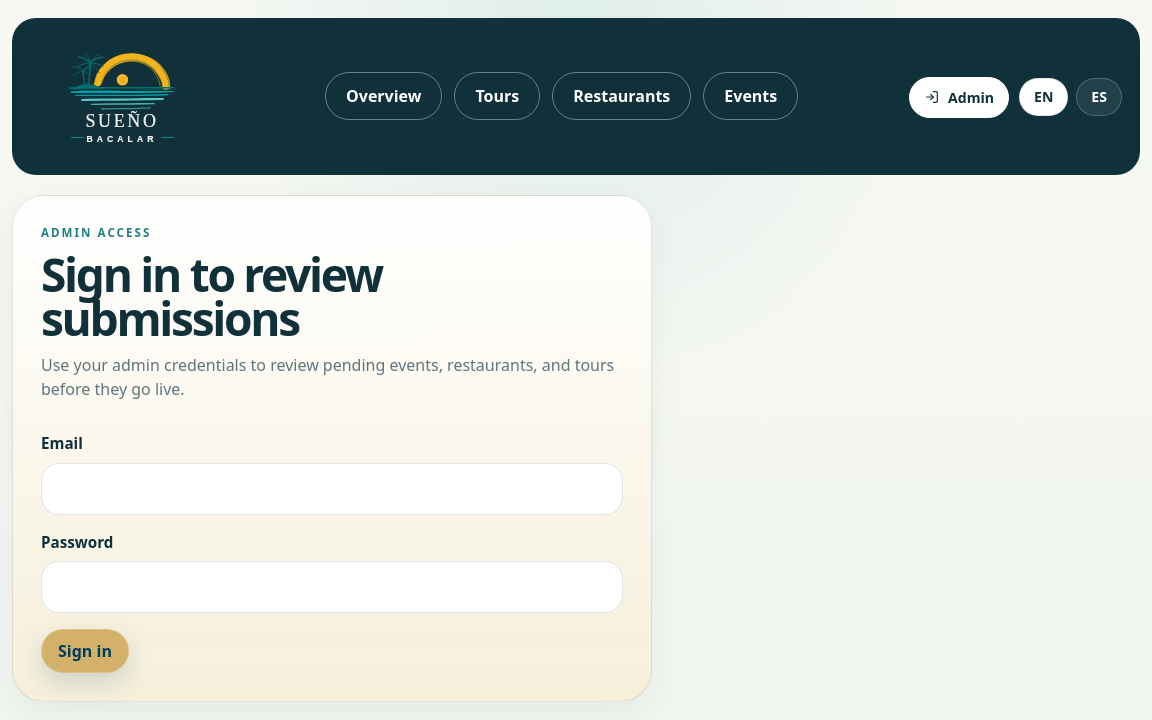
it: admin access flow › shows admin navigation after admin sign-in
The width and height of the screenshot is (1152, 720).
Type "admin@bacalar.test" into the field named "Email" at [332, 489], box [41, 463, 623, 515]
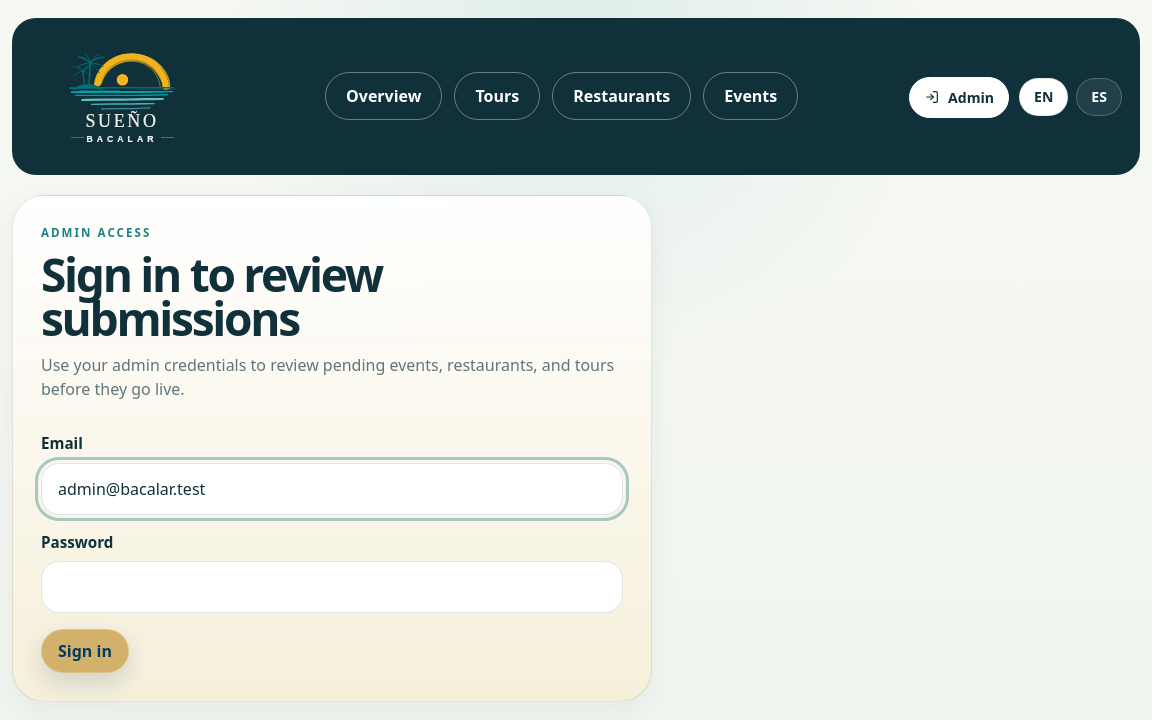
Type "super-secret" into the password field named "Password" at [332, 588], box [41, 562, 623, 614]
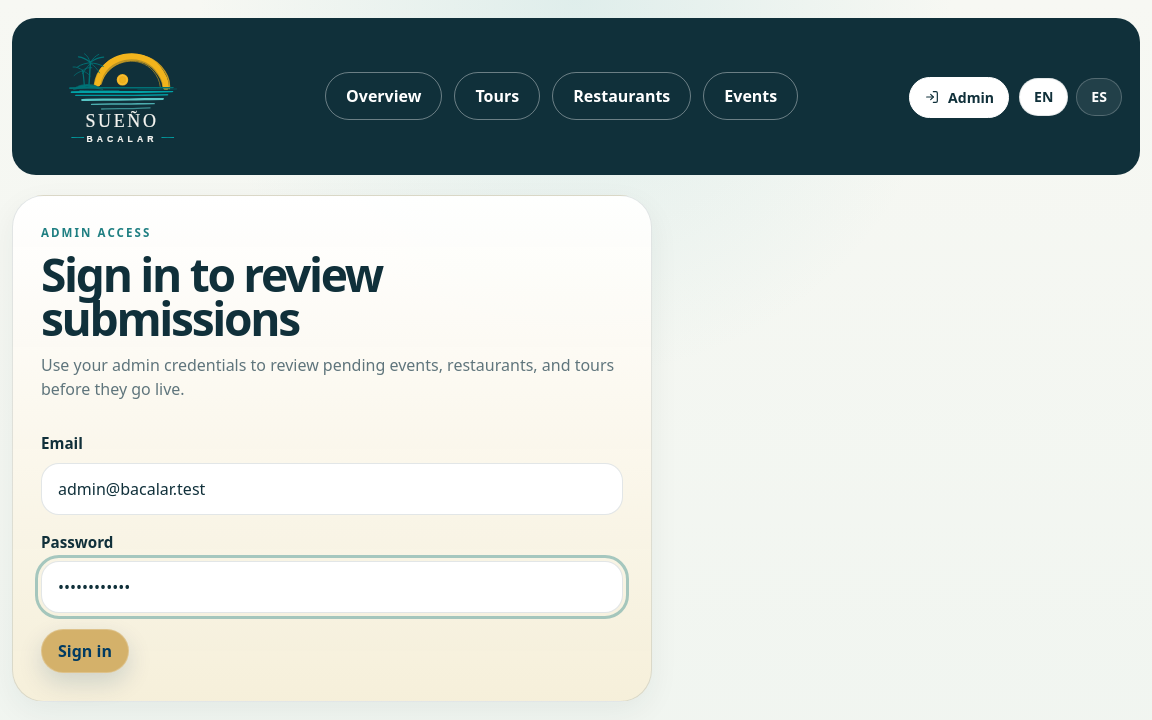
Click the button "Sign in" at [85, 652], box [41, 630, 129, 674]
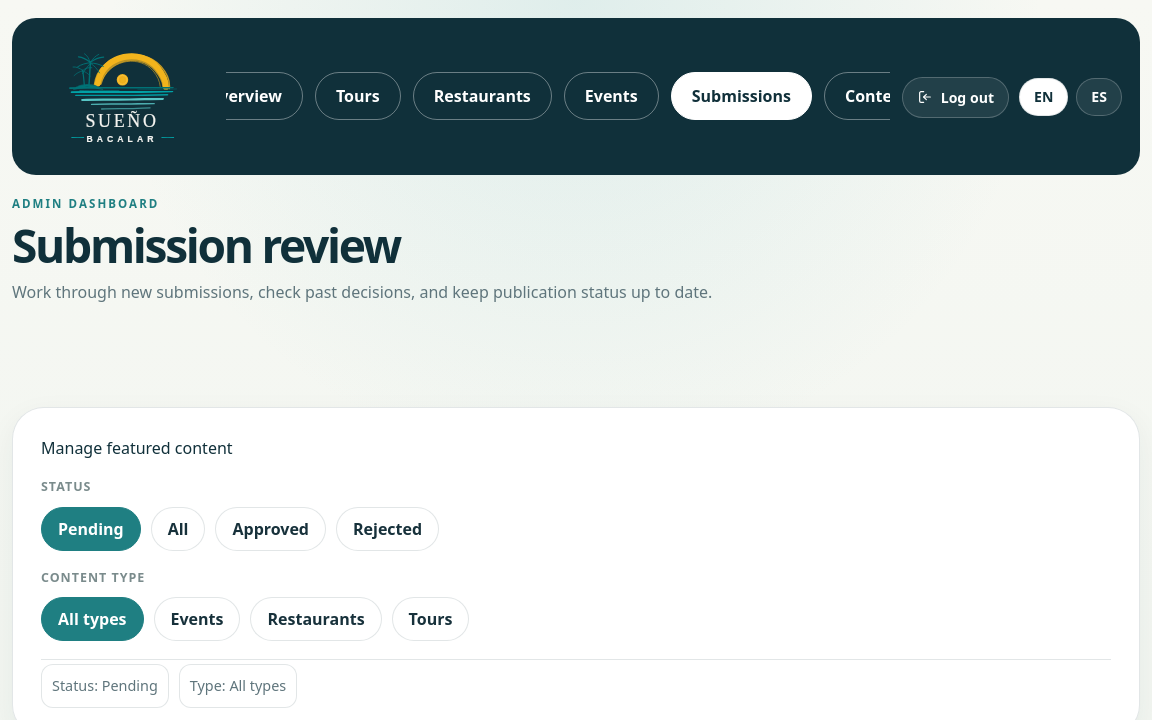
Expected: the heading "Submission review" is shown, [12, 214, 400, 277]
Expected: the link "Submissions" is shown, [671, 72, 812, 120]
Expected: the link "Content" is shown, [824, 72, 890, 120]
